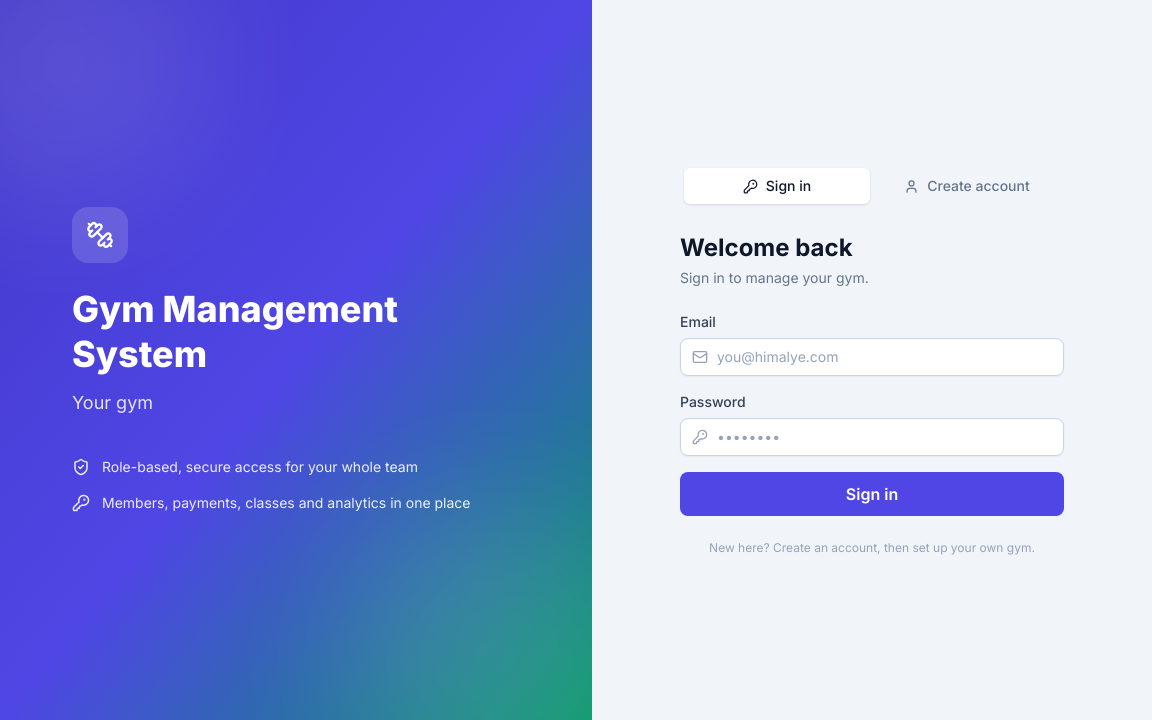
Scenario: Login authentication failures › shows a network message when the auth service is unreachable
This screenshot has width=1152, height=720.
Type "owner@himalye.com" into the field with placeholder "you@himalye.com".
click(872, 357); type("owner@himalye.com")  # box [680,338,1064,376]
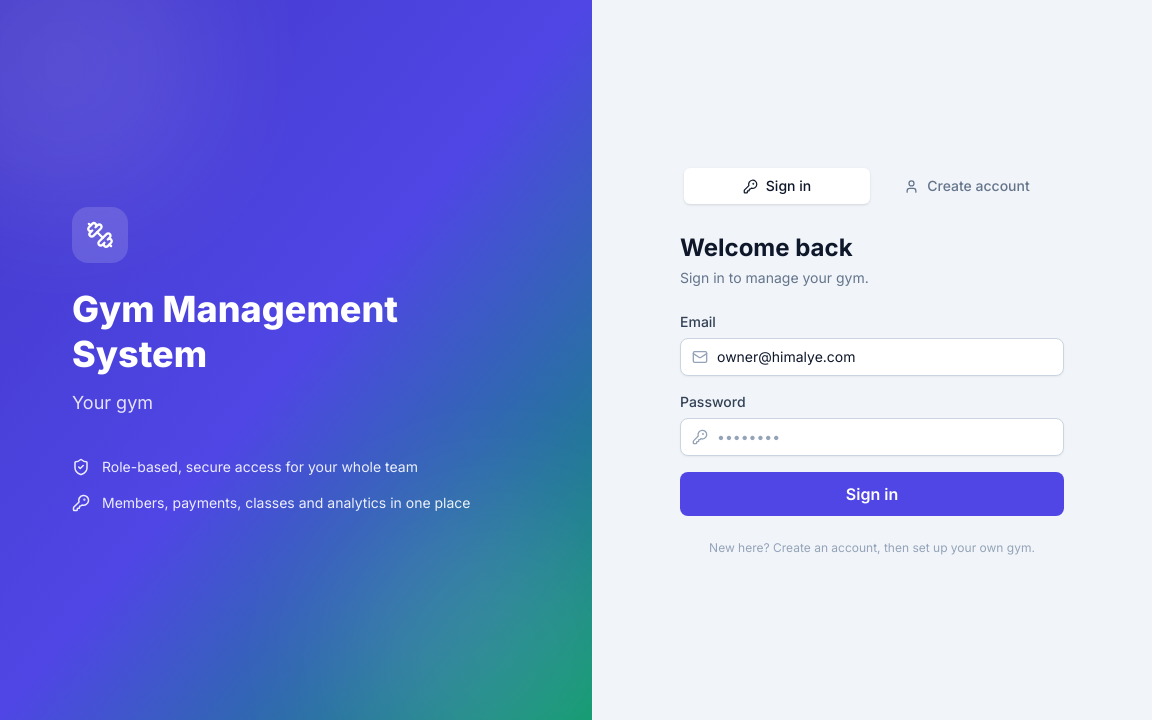
Type "secret123" into the password field with placeholder "••••••••".
click(872, 437); type("secret123")  # box [680,418,1064,456]
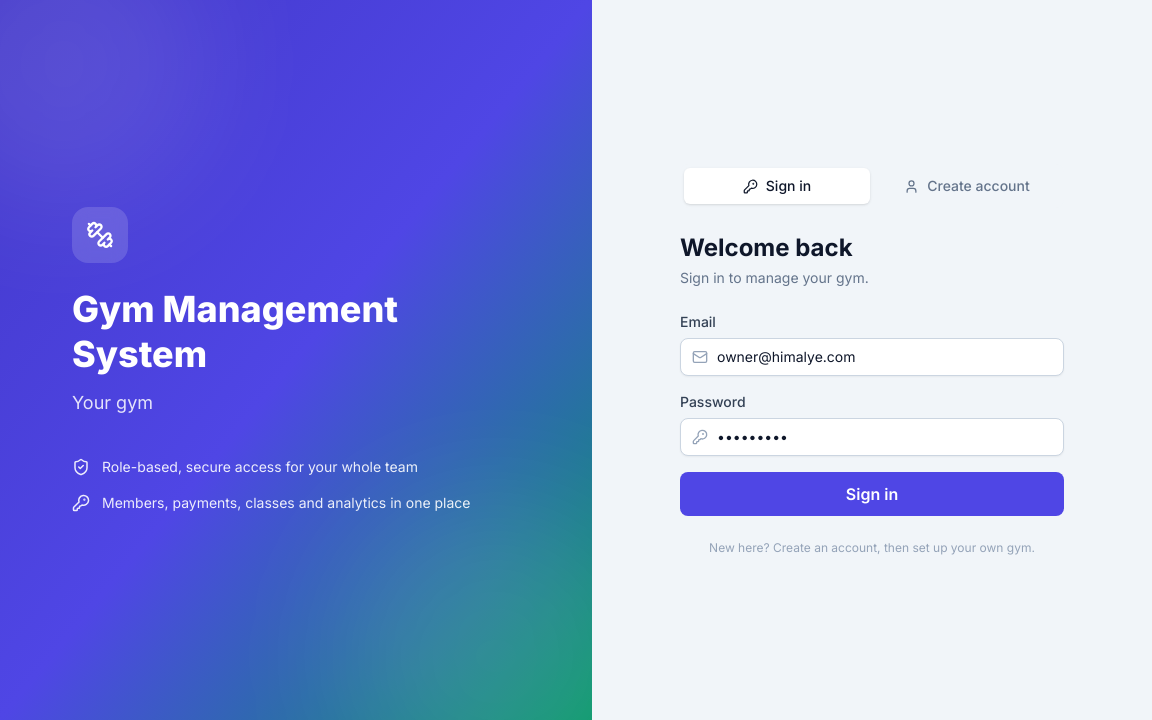
Submit the form, box [680,312,1064,516]
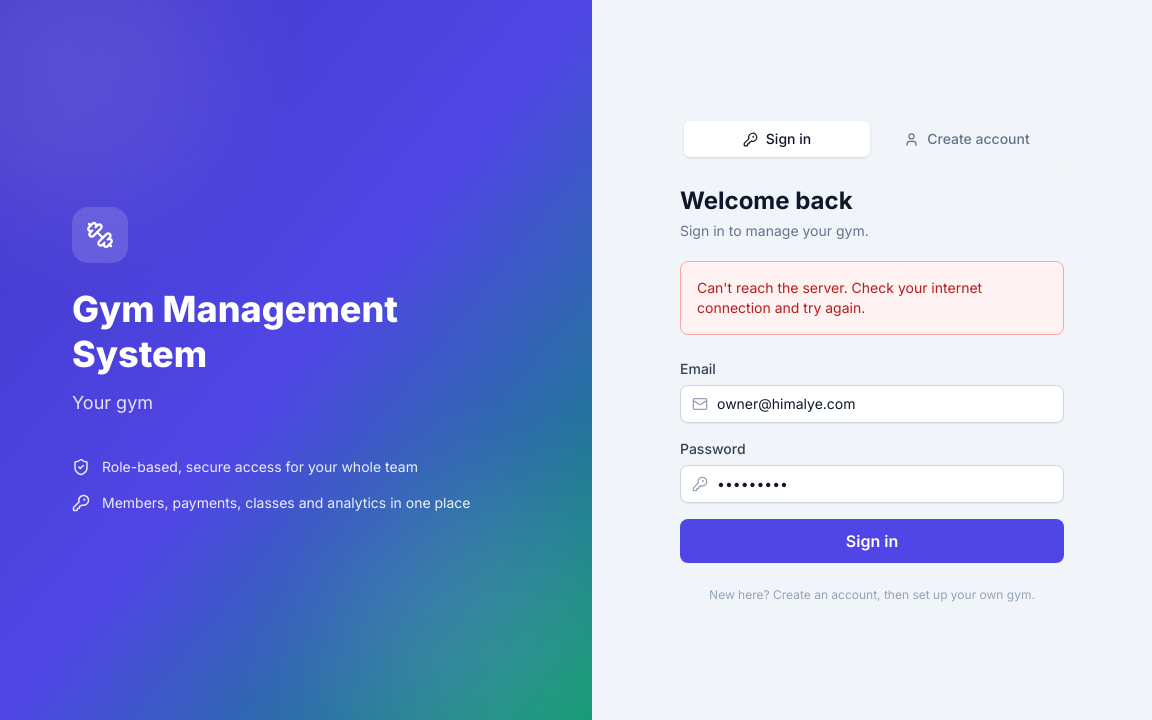
Result: the text "Can't reach the server. Check your internet connection and try again." is shown at [680,261,1064,335]
